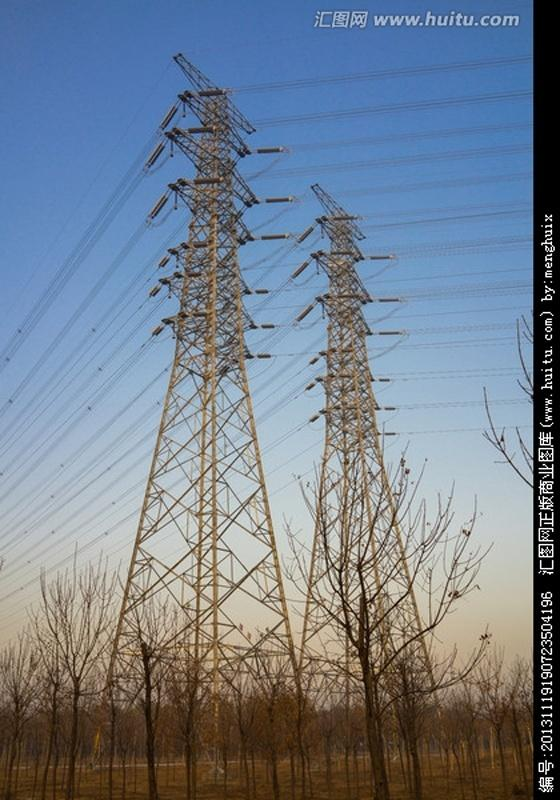power_tower: (123, 56, 314, 745), (297, 183, 438, 741)
